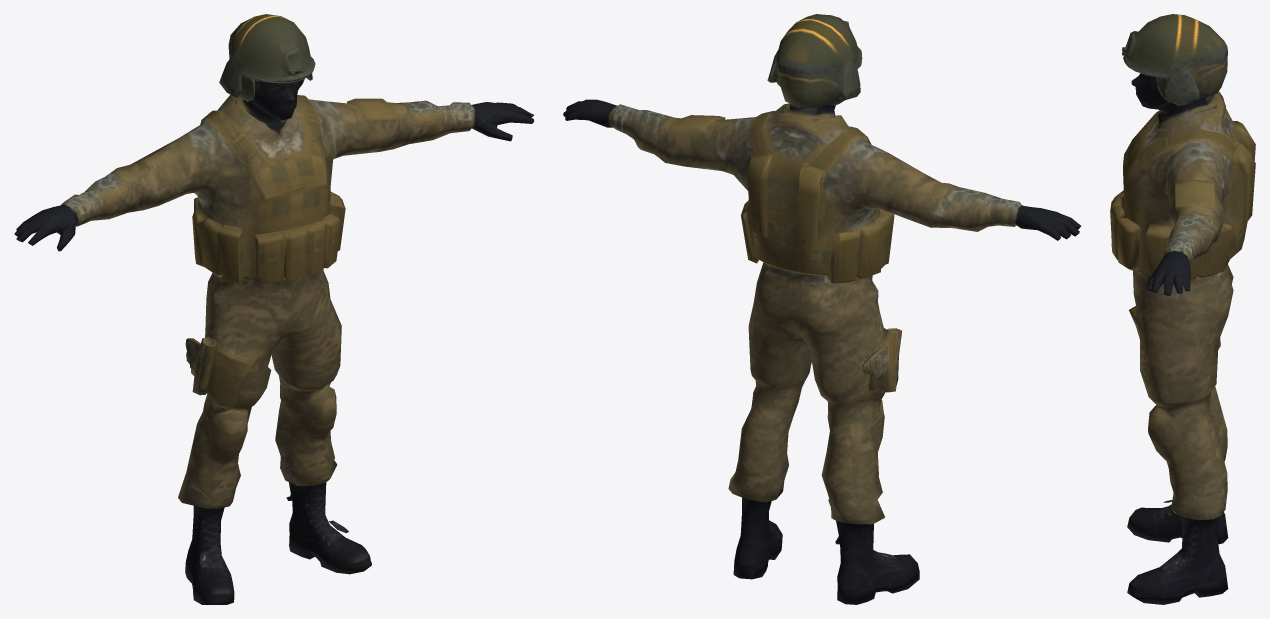
File: ua-rifleman.glb
The picture shows the model from 3 angles, left to right: view 1: azimuth 30°, elevation 25°; view 2: azimuth 150°, elevation 25°; view 3: azimuth 270°, elevation 25°; orthographic projection.
Visible parts, largest first — view 1: Mesh_0; view 2: Mesh_0; view 3: Mesh_0.
Boxes of the visible parts, x1,y1,x2,y2 form: Mesh_0: (14, 14, 534, 604); Mesh_0: (563, 14, 1080, 604); Mesh_0: (1110, 14, 1255, 604).
Size of the model in its own units: 0.9219 by 0.9512 by 0.2295.
Materials: 1 (1 with a texture image).
